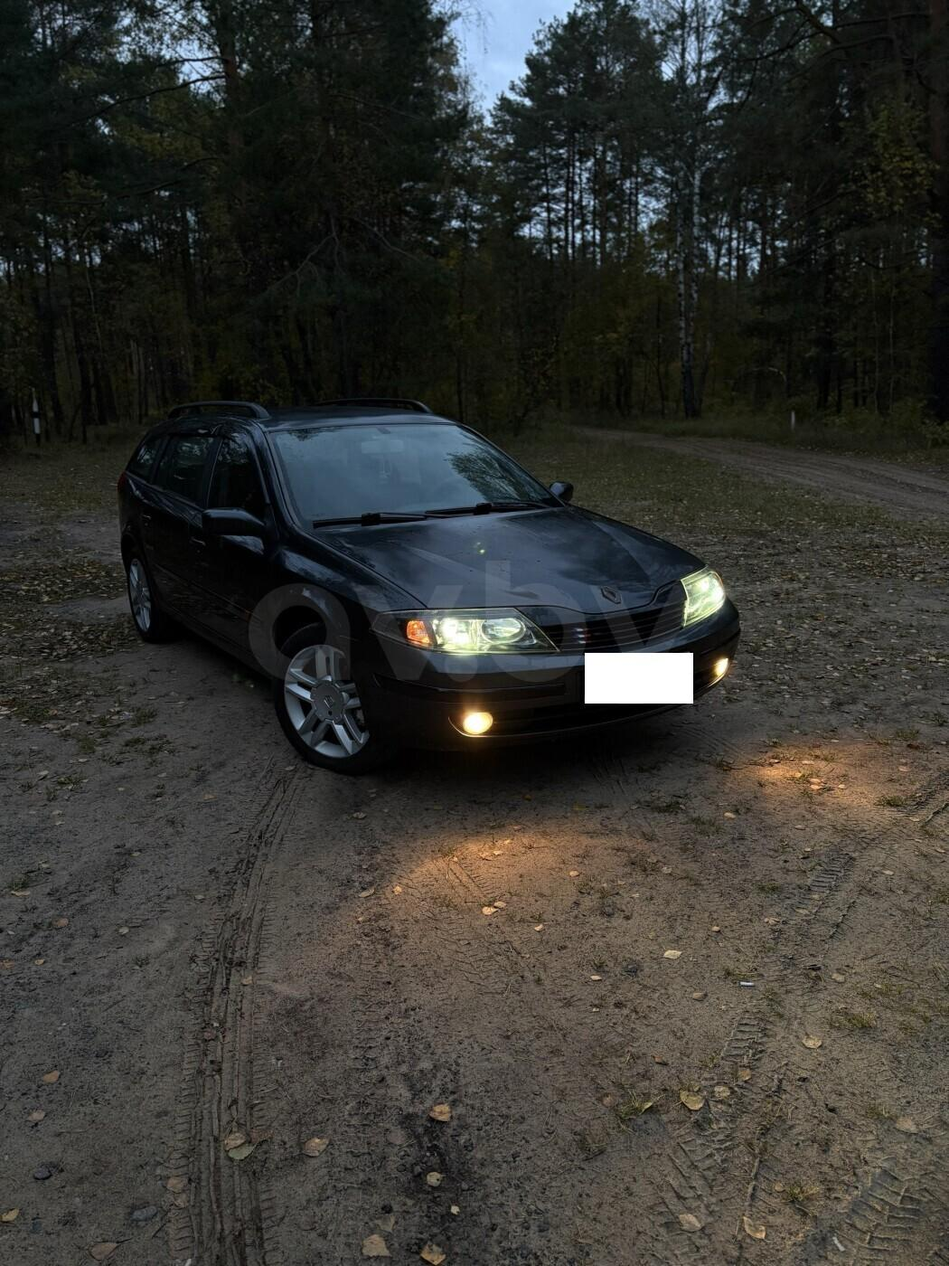Laguna_2001-2005: (117, 400, 739, 773)
